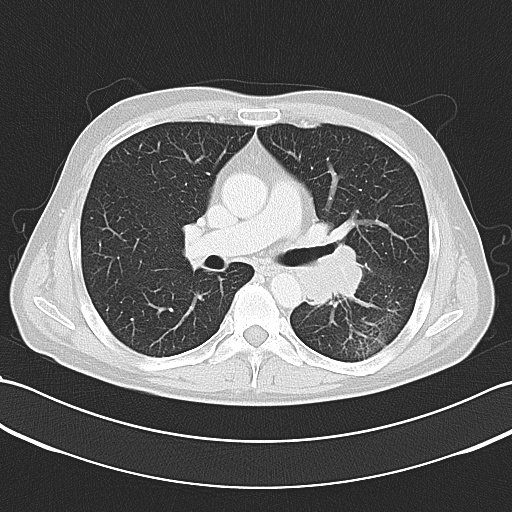Copy of cancer: (305, 239, 383, 320)
cancer: (293, 227, 371, 308)
